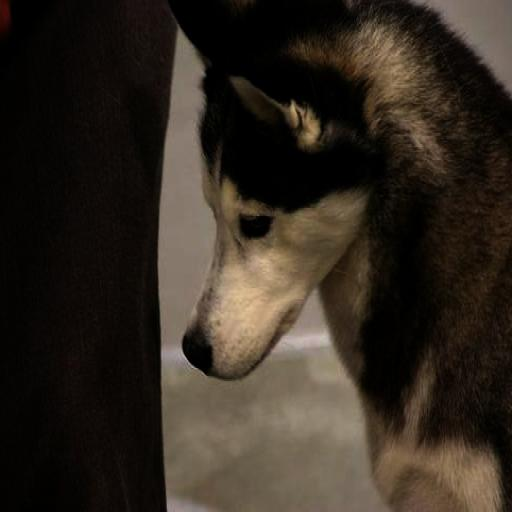dog_face: (171, 6, 364, 384)
